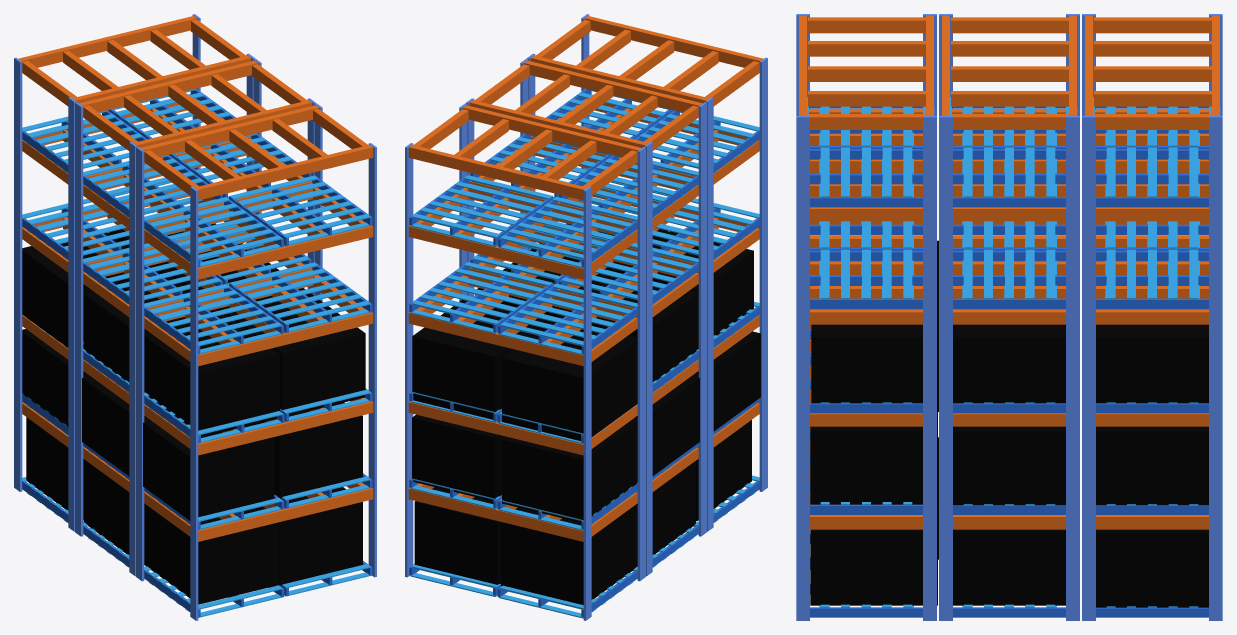
File: bmetsrack.glb
3 views of the same model, side by side, from view 1: azimuth 30°, elevation 25°; view 2: azimuth 150°, elevation 25°; view 3: azimuth 270°, elevation 25° (orthographic). The views are drawn at different scales.
Visible parts, largest first — view 1: Box5_2, Box4_2, Box2_2, Box6_2, Box3_2, Box1_2, Box5, post_9, post_3, post_1, post_5, Box4_1 (+47 smaller); view 2: Box5, Box4, Box2, Box6, Box3, Box1, post_11, post_9, post_3, post_7, Box4_1, Box4_2 (+48 smaller); view 3: Box6_2, Box6, Box6_1, Box3_1, Box3, Box3_2, Box1, Box1_2, Box1_1, post, post_2, post_4 (+84 smaller).
Boxes of the visible parts, <box> form: Box5_2: <box>144,314,280,437</box>; Box4_2: <box>143,416,274,520</box>; Box2_2: <box>144,503,278,604</box>; Box6_2: <box>228,293,365,415</box>; Box3_2: <box>256,402,362,498</box>; Box1_2: <box>260,487,362,585</box>; Box5: <box>22,232,157,347</box>; post_9: <box>14,57,22,491</box>; post_3: <box>190,186,198,620</box>; post_1: <box>136,147,144,581</box>; post_5: <box>75,102,83,536</box>; Box4_1: <box>82,373,129,475</box>; Box5: <box>502,321,637,440</box>; Box4: <box>502,418,637,522</box>; Box2: <box>501,503,637,604</box>; Box6: <box>412,299,549,419</box>; Box3: <box>412,414,505,500</box>; Box1: <box>414,487,519,584</box>; post_11: <box>637,147,645,581</box>; post_9: <box>583,186,591,620</box>; post_3: <box>759,57,767,491</box>; post_7: <box>698,102,706,536</box>; Box4_1: <box>634,374,699,475</box>; Box4_2: <box>695,331,760,431</box>; Box6_2: <box>811,289,938,411</box>; Box6: <box>1096,324,1208,403</box>; Box6_1: <box>953,324,1065,403</box>; Box3_1: <box>953,426,1065,505</box>; Box3: <box>1096,426,1208,505</box>; Box3_2: <box>810,412,937,505</box>; Box1: <box>1096,529,1208,607</box>; Box1_2: <box>810,505,937,605</box>; Box1_1: <box>953,529,1065,605</box>; post: <box>923,116,936,620</box>; post_2: <box>796,116,809,620</box>; post_4: <box>1066,116,1079,620</box>.
Size of the model in its own units: 2.96 by 6.73 by 5.17.
